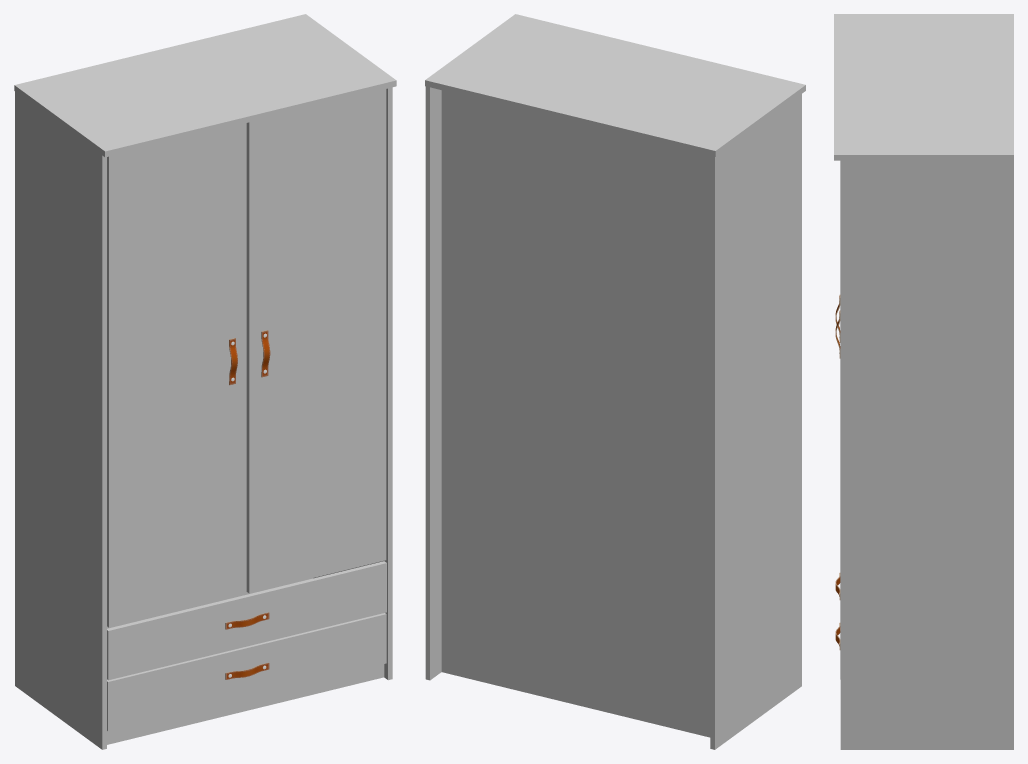
3 views of the same model, side by side, from view 1: azimuth 30°, elevation 25°; view 2: azimuth 150°, elevation 25°; view 3: azimuth 270°, elevation 25° (orthographic).
Parts seen in each view (by area): view 1: wmdf.012; view 2: wmdf.012; view 3: wmdf.012.
Part boxes in pixels (box(x1,y1,x2,y2)): wmdf.012: box(14, 14, 396, 749); wmdf.012: box(425, 14, 805, 749); wmdf.012: box(834, 14, 1013, 749).
Size of the model in its own units: 1.02 by 2.01 by 0.55.
Materials: 6 (4 with a texture image).
